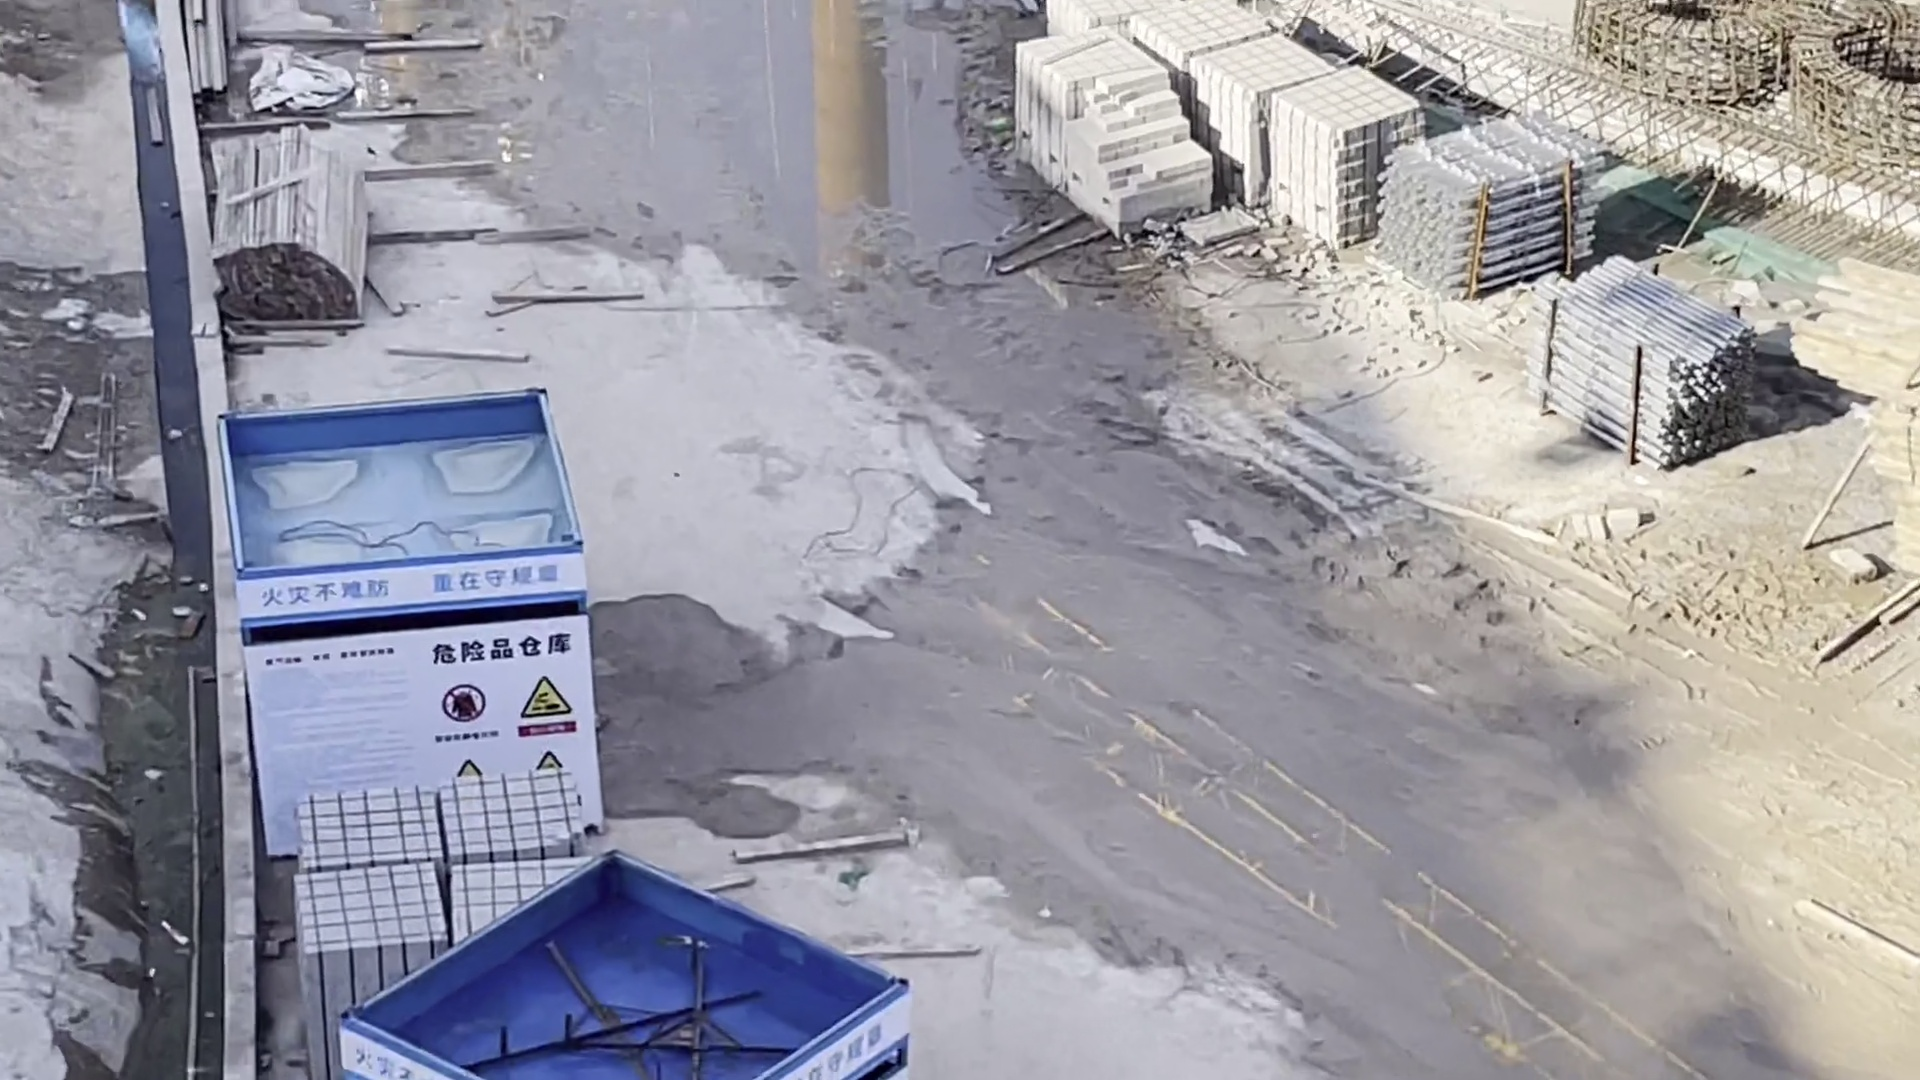brick: (1006, 1, 1366, 249), (282, 774, 593, 964)
scaffold: (1526, 276, 1749, 465), (1377, 128, 1602, 262)
slogan: (260, 560, 575, 615)
